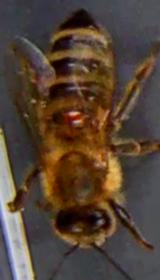varroa_mite: (50, 107, 90, 126)
